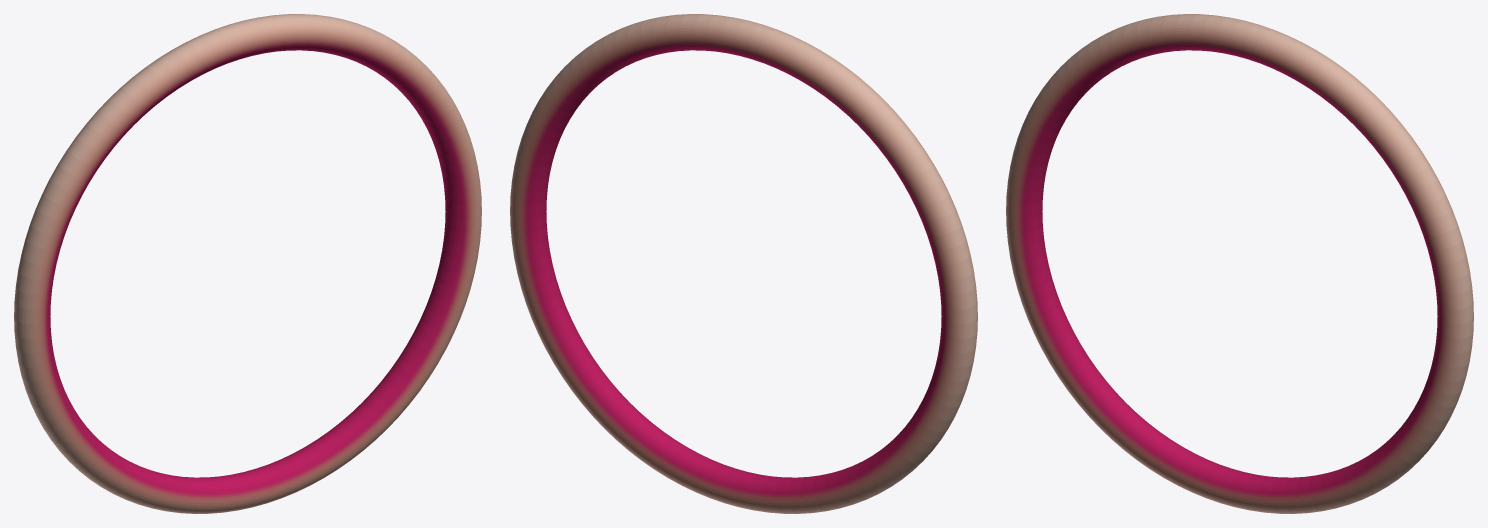
3 renders of one model, left to right at view 1: azimuth 30°, elevation 25°; view 2: azimuth 150°, elevation 25°; view 3: azimuth 330°, elevation 25°, orthographic.
Parts seen in each view (by area): view 1: world; view 2: world; view 3: world.
Boxes of the visible parts, left/top/right/bottom form: world: left=14, top=14, right=481, bottom=513; world: left=510, top=14, right=977, bottom=513; world: left=1006, top=14, right=1473, bottom=513.
Bounding box in the file's own units: 29.33 × 29.33 × 2.
